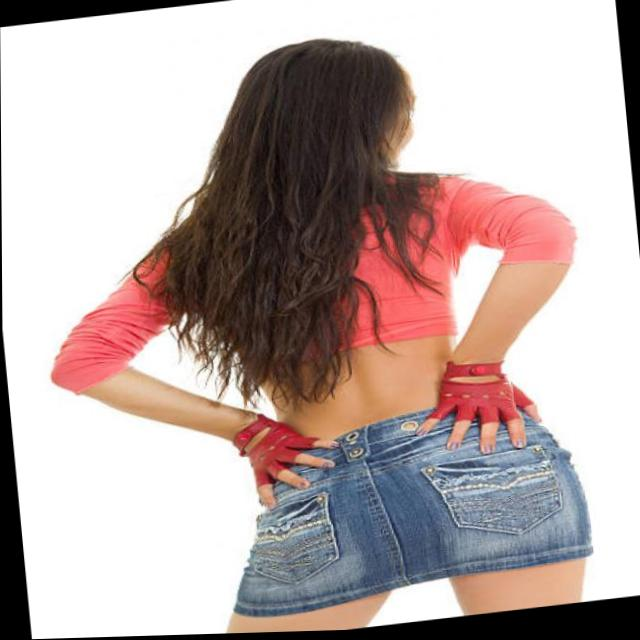no helmet: (212, 26, 430, 193)
